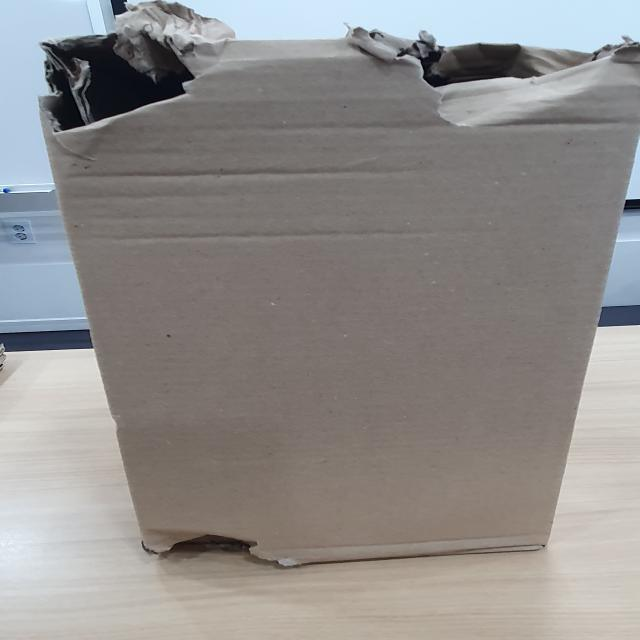hole: (29, 26, 237, 136), (384, 32, 640, 115), (139, 515, 280, 570)
